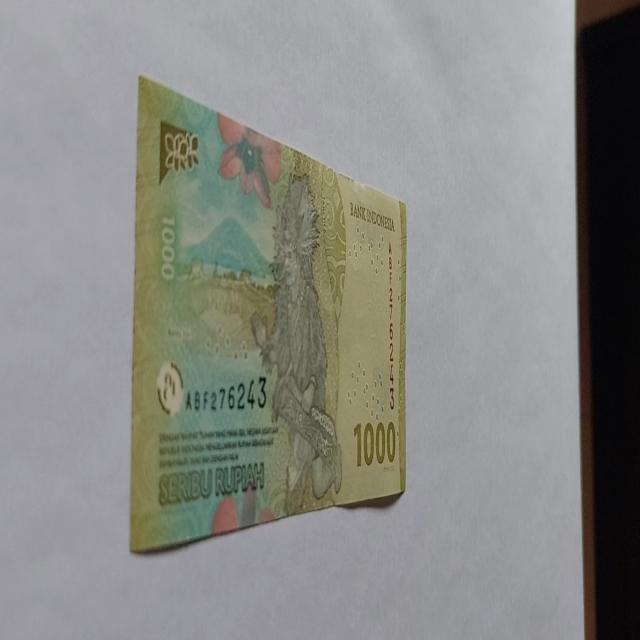seribu rupiah kertas: (129, 74, 408, 554)
